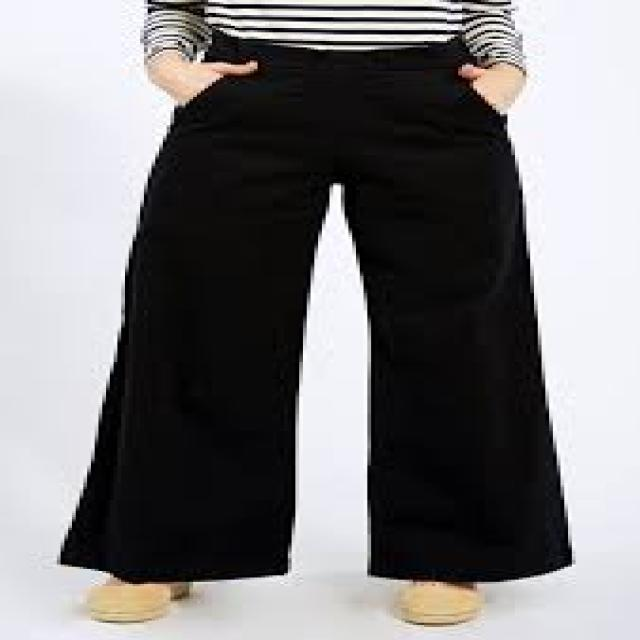long-pants: (64, 31, 580, 582)
